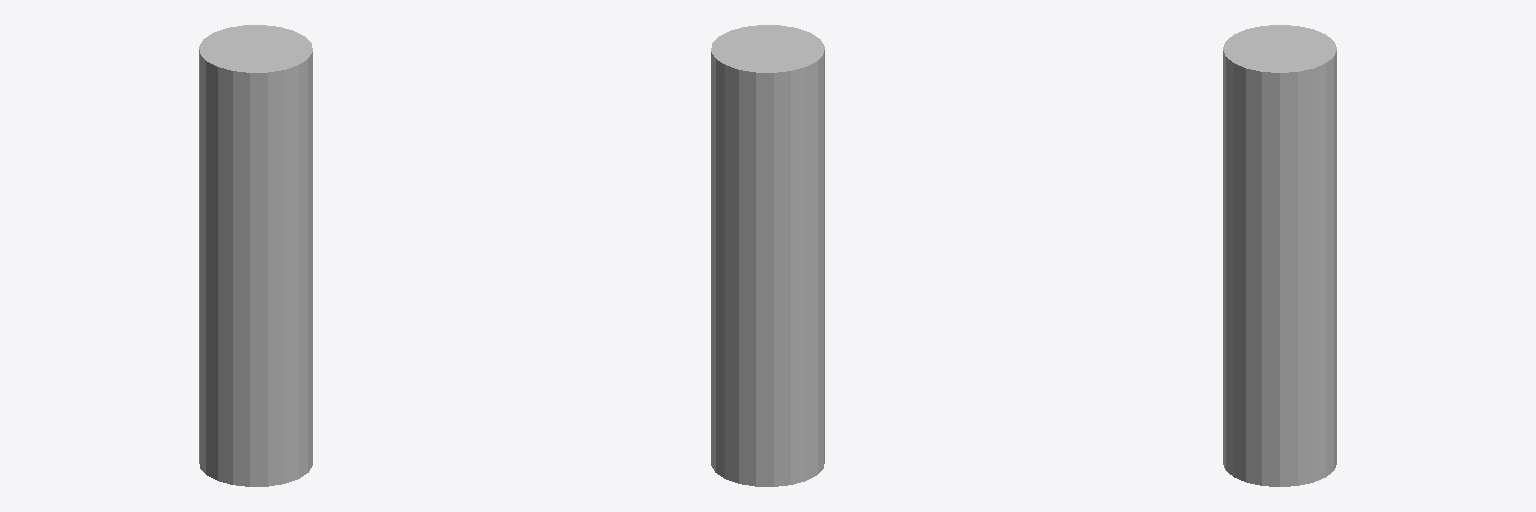
Rendered from treeBase.obj.
3 views of the same model, side by side, from view 1: azimuth 30°, elevation 25°; view 2: azimuth 150°, elevation 25°; view 3: azimuth 270°, elevation 25° (orthographic).
Visible parts, largest first — view 1: pCylinder1; view 2: pCylinder1; view 3: pCylinder1.
Part boxes in pixels (x1,y1,x2,y2): pCylinder1: (199, 25, 312, 486); pCylinder1: (711, 25, 824, 486); pCylinder1: (1223, 25, 1336, 486).
Size of the model in its own units: 1.09 by 4.37 by 1.09.